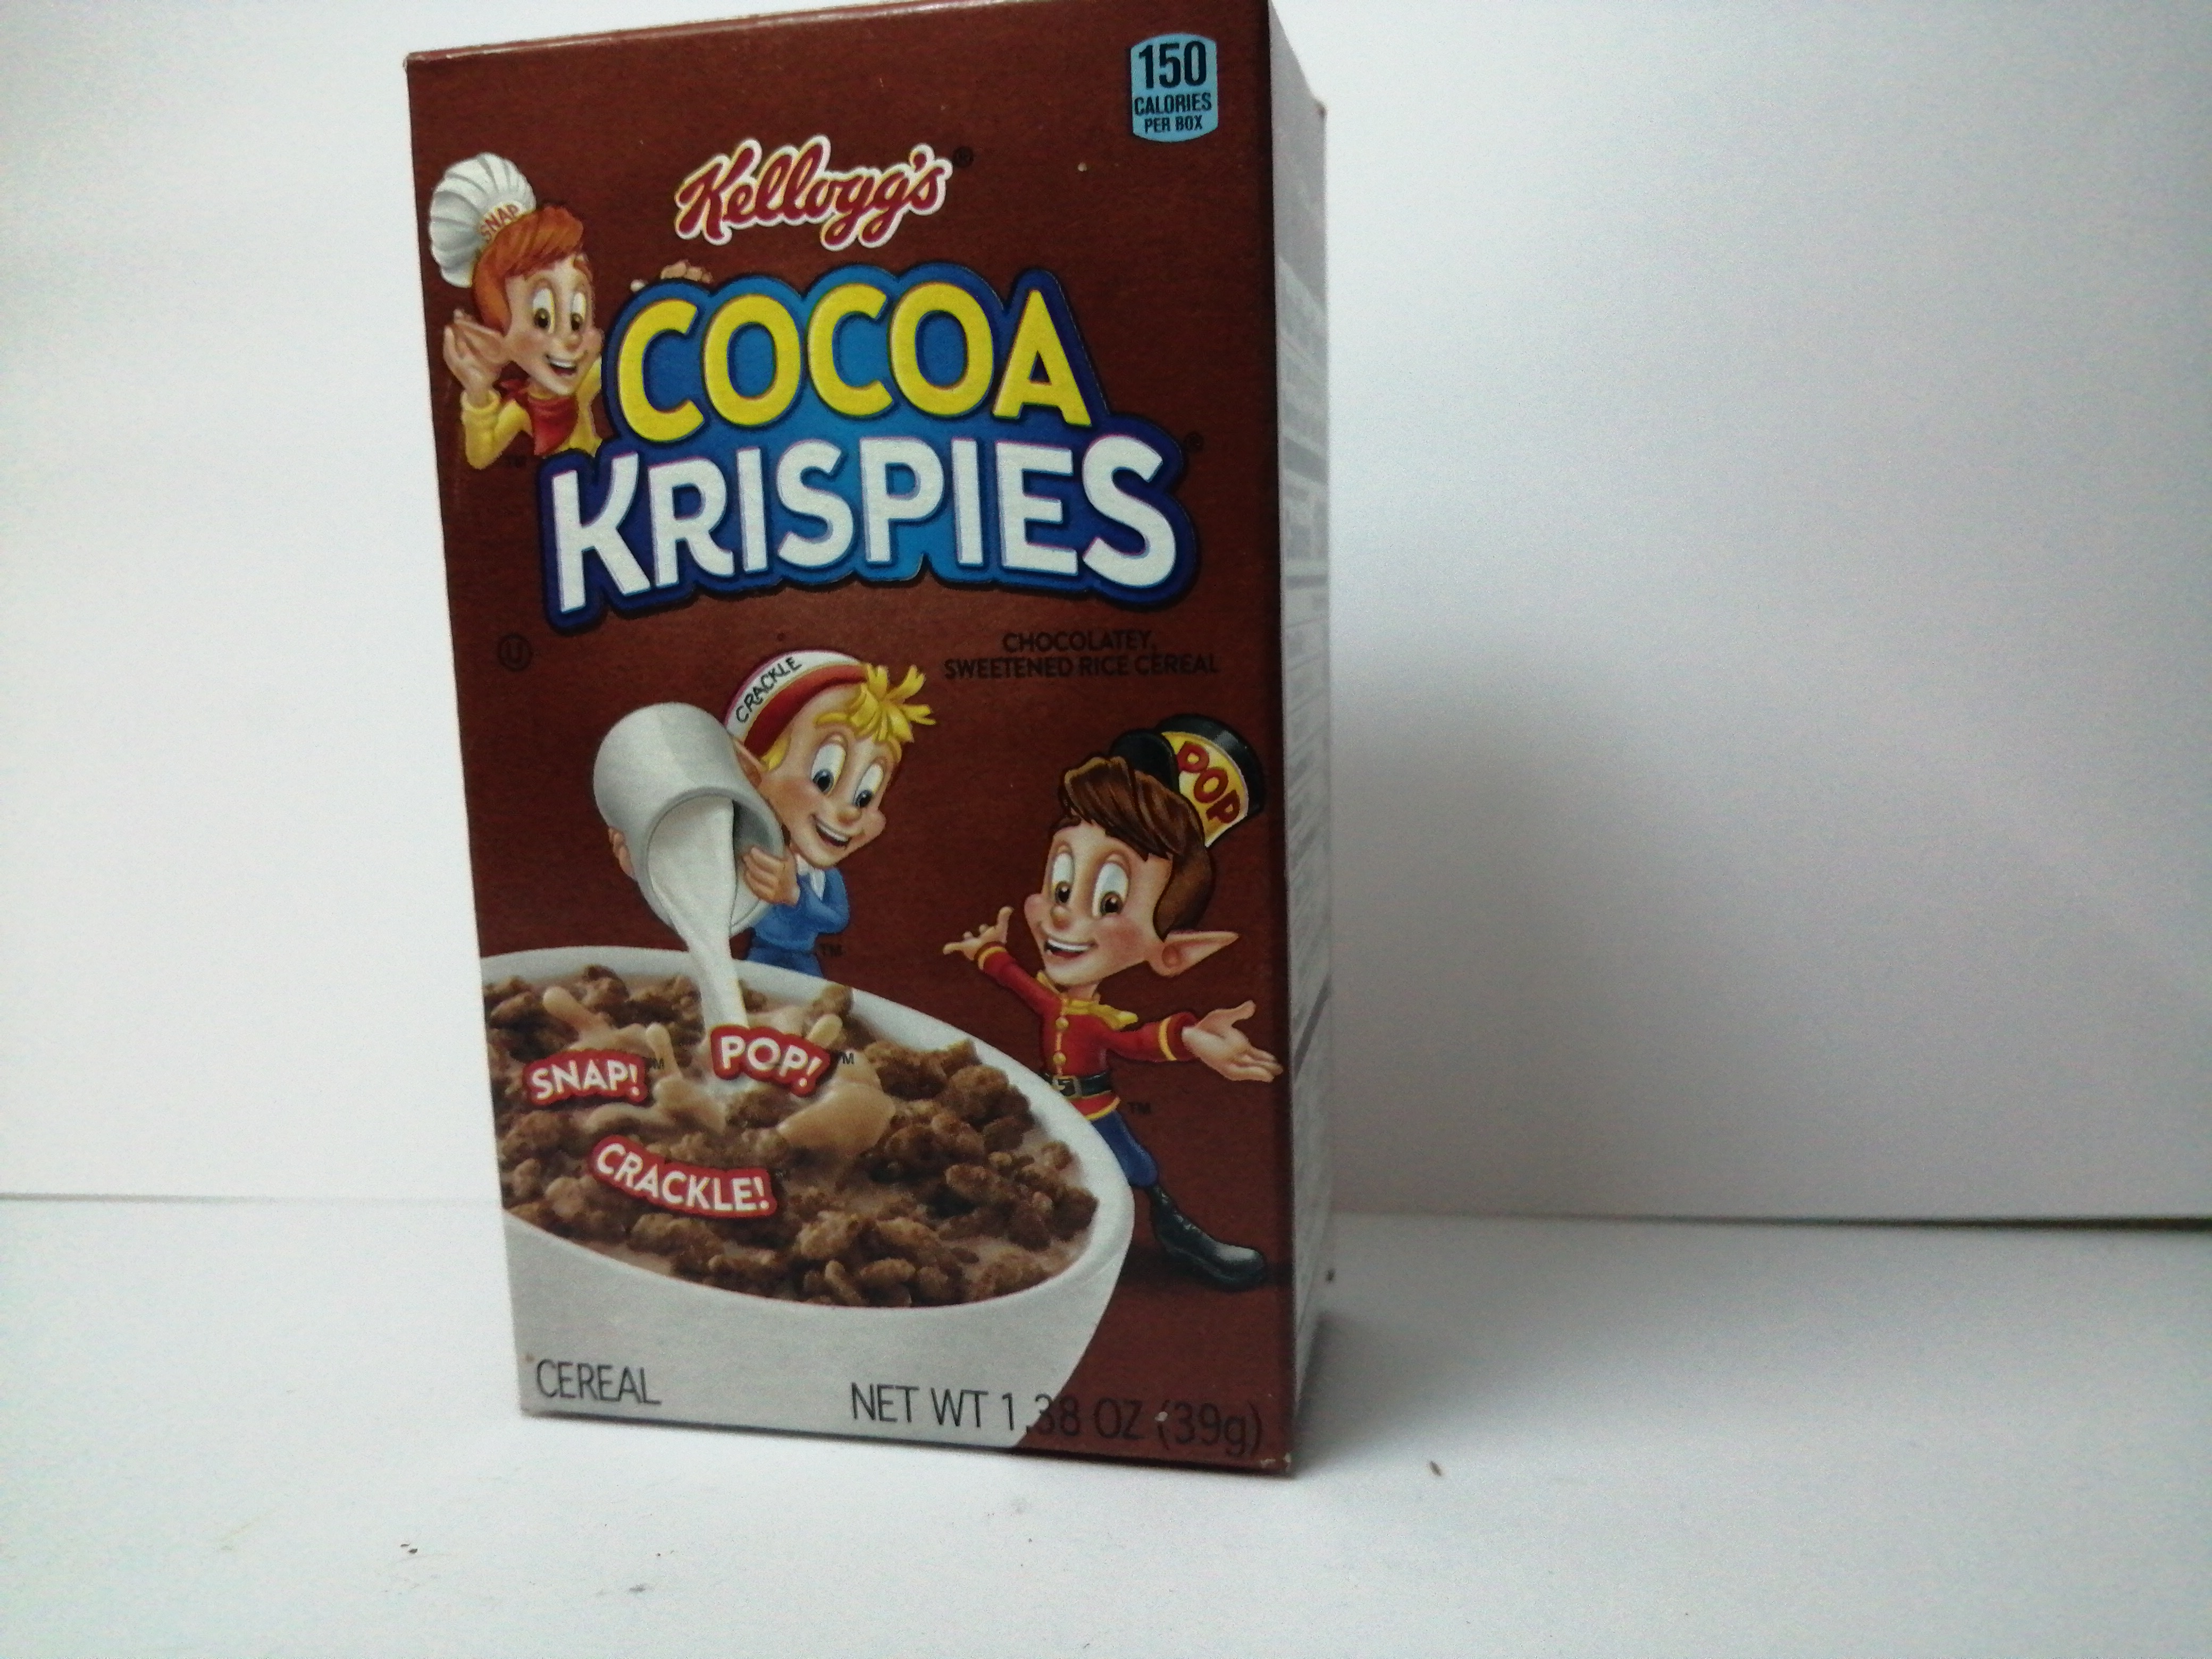cereal chocolate: (397, 9, 1421, 1480)
